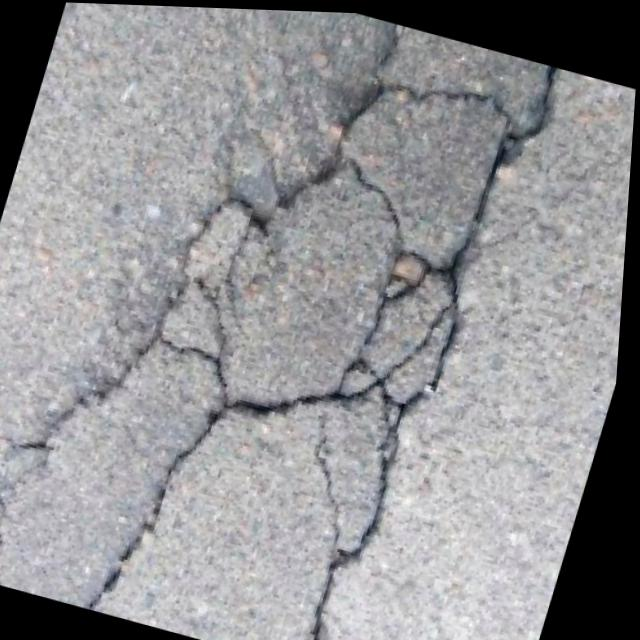Crack: (0, 0, 592, 640)
